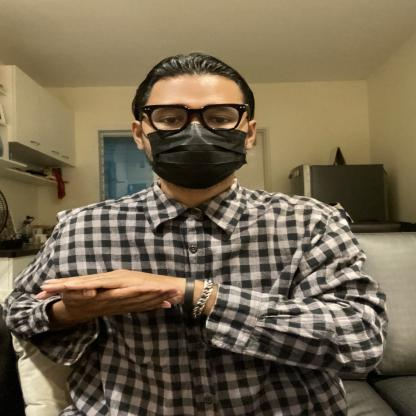Love: (21, 233, 297, 350)
